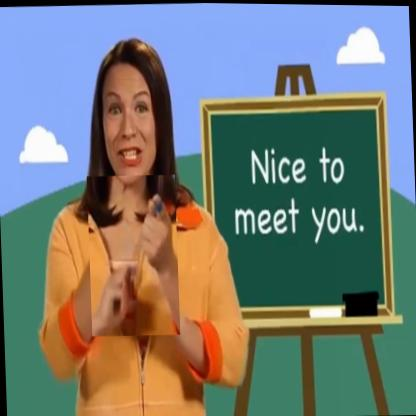NiceToMeetYou: (87, 173, 181, 337)
